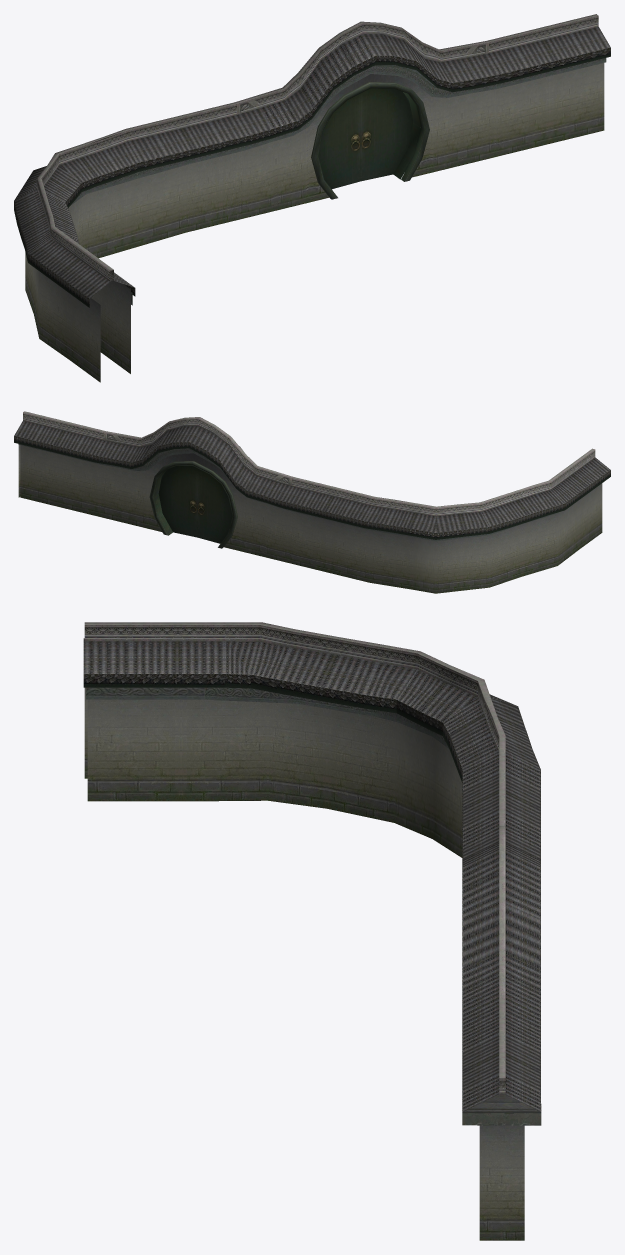
The model's file is SC001Jweiqiang_01.FBX.
The picture shows the model from 3 angles, top to bottom: view 1: azimuth 30°, elevation 25°; view 2: azimuth 150°, elevation 25°; view 3: azimuth 270°, elevation 25°; orthographic projection. The views are drawn at different scales.
Parts seen in each view (by area): view 1: SC001Jweiqiang_01; view 2: SC001Jweiqiang_01; view 3: SC001Jweiqiang_01.
Boxes of the visible parts, bbox=[...] form: SC001Jweiqiang_01: bbox=[14, 14, 610, 382]; SC001Jweiqiang_01: bbox=[14, 411, 610, 593]; SC001Jweiqiang_01: bbox=[83, 622, 541, 1240].
Bounding box in the file's own units: 14.4 × 3.41 × 5.91.
